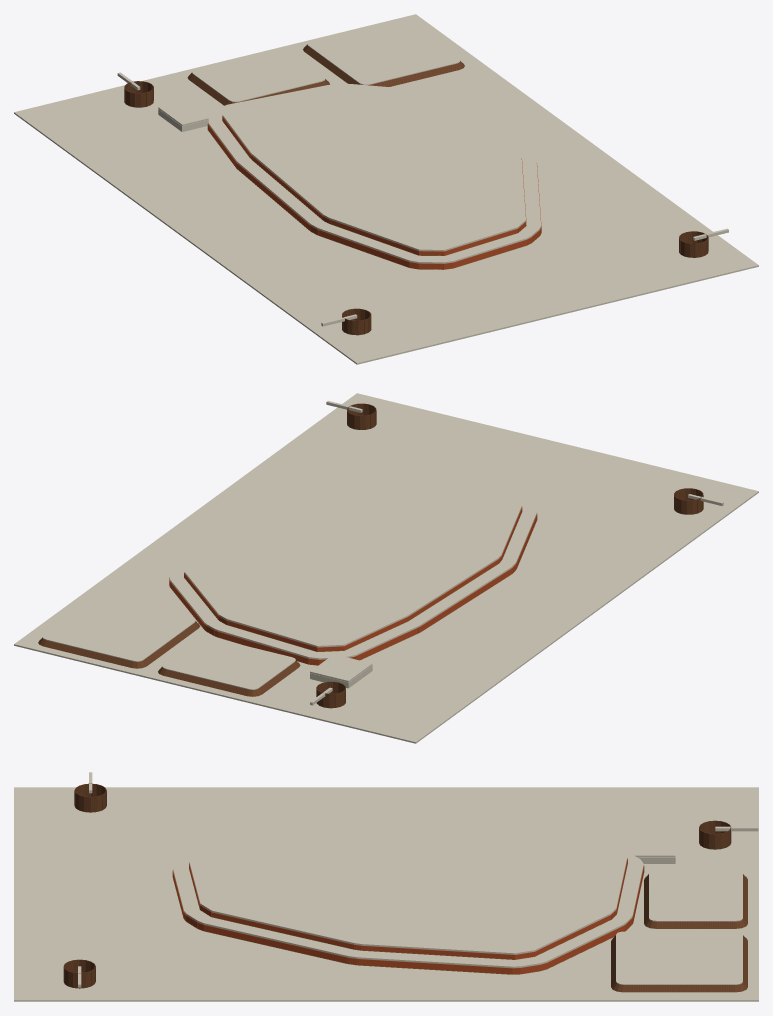
The model's file is AST-AQU-012.glb.
The picture shows the model from 3 angles, top to bottom: view 1: azimuth 30°, elevation 25°; view 2: azimuth 150°, elevation 25°; view 3: azimuth 270°, elevation 25°; orthographic projection. The views are drawn at different scales.
Parts seen in each view (by area): view 1: AQU_Ceiling_ivory_enamel, AQU_Ceiling_terracotta, AQU_Ceiling_warm_walnut, AQU_Ceiling_champagne_metal; view 2: AQU_Ceiling_ivory_enamel, AQU_Ceiling_warm_walnut, AQU_Ceiling_terracotta, AQU_Ceiling_champagne_metal; view 3: AQU_Ceiling_ivory_enamel, AQU_Ceiling_terracotta, AQU_Ceiling_warm_walnut, AQU_Ceiling_champagne_metal.
Boxes of the visible parts, bbox=[...] form: AQU_Ceiling_ivory_enamel: bbox=[14, 14, 758, 364]; AQU_Ceiling_terracotta: bbox=[207, 116, 541, 269]; AQU_Ceiling_warm_walnut: bbox=[124, 44, 708, 335]; AQU_Ceiling_champagne_metal: bbox=[208, 121, 541, 269]; AQU_Ceiling_ivory_enamel: bbox=[14, 393, 758, 743]; AQU_Ceiling_warm_walnut: bbox=[38, 403, 703, 708]; AQU_Ceiling_terracotta: bbox=[169, 507, 537, 665]; AQU_Ceiling_champagne_metal: bbox=[169, 511, 537, 665]; AQU_Ceiling_ivory_enamel: bbox=[14, 772, 758, 1001]; AQU_Ceiling_terracotta: bbox=[172, 858, 644, 974]; AQU_Ceiling_warm_walnut: bbox=[63, 783, 747, 992]; AQU_Ceiling_champagne_metal: bbox=[172, 863, 644, 974].
Size of the model in its own units: 46 by 1.86 by 68.
Materials: 5 (4 with a texture image).
